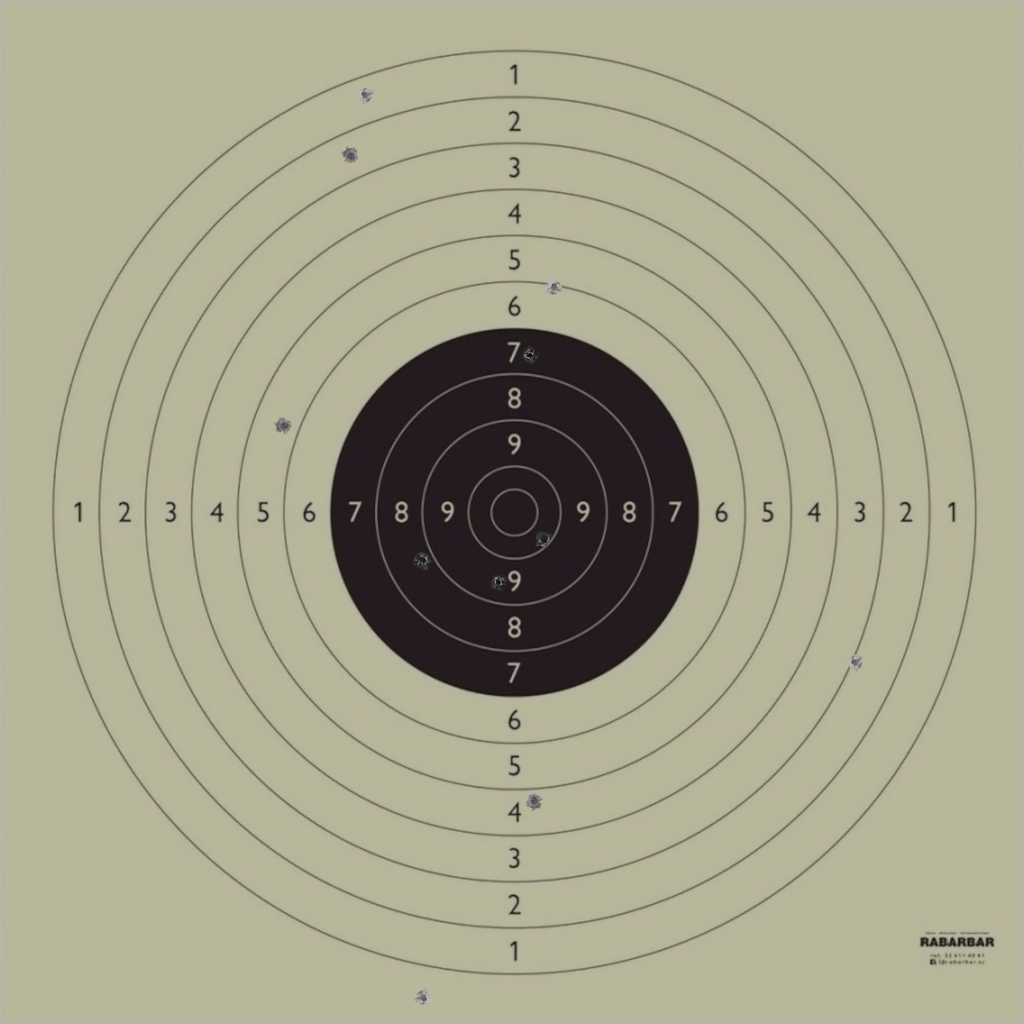0 punktow: (414, 989, 433, 1007)
1 punkt: (356, 86, 374, 104)
10 punktow: (535, 530, 553, 549)
2 punkty: (341, 146, 360, 165)
3 punkty: (846, 653, 864, 671)
4 punkty: (525, 792, 543, 810)
5 punktow: (275, 417, 293, 435)
6 punktow: (545, 278, 563, 296)
7 punktow: (520, 346, 539, 365)
8 punktow: (414, 551, 432, 570)
9 punktow: (489, 573, 507, 591)
